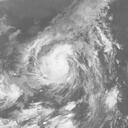cyclone: (40, 51, 72, 81)
